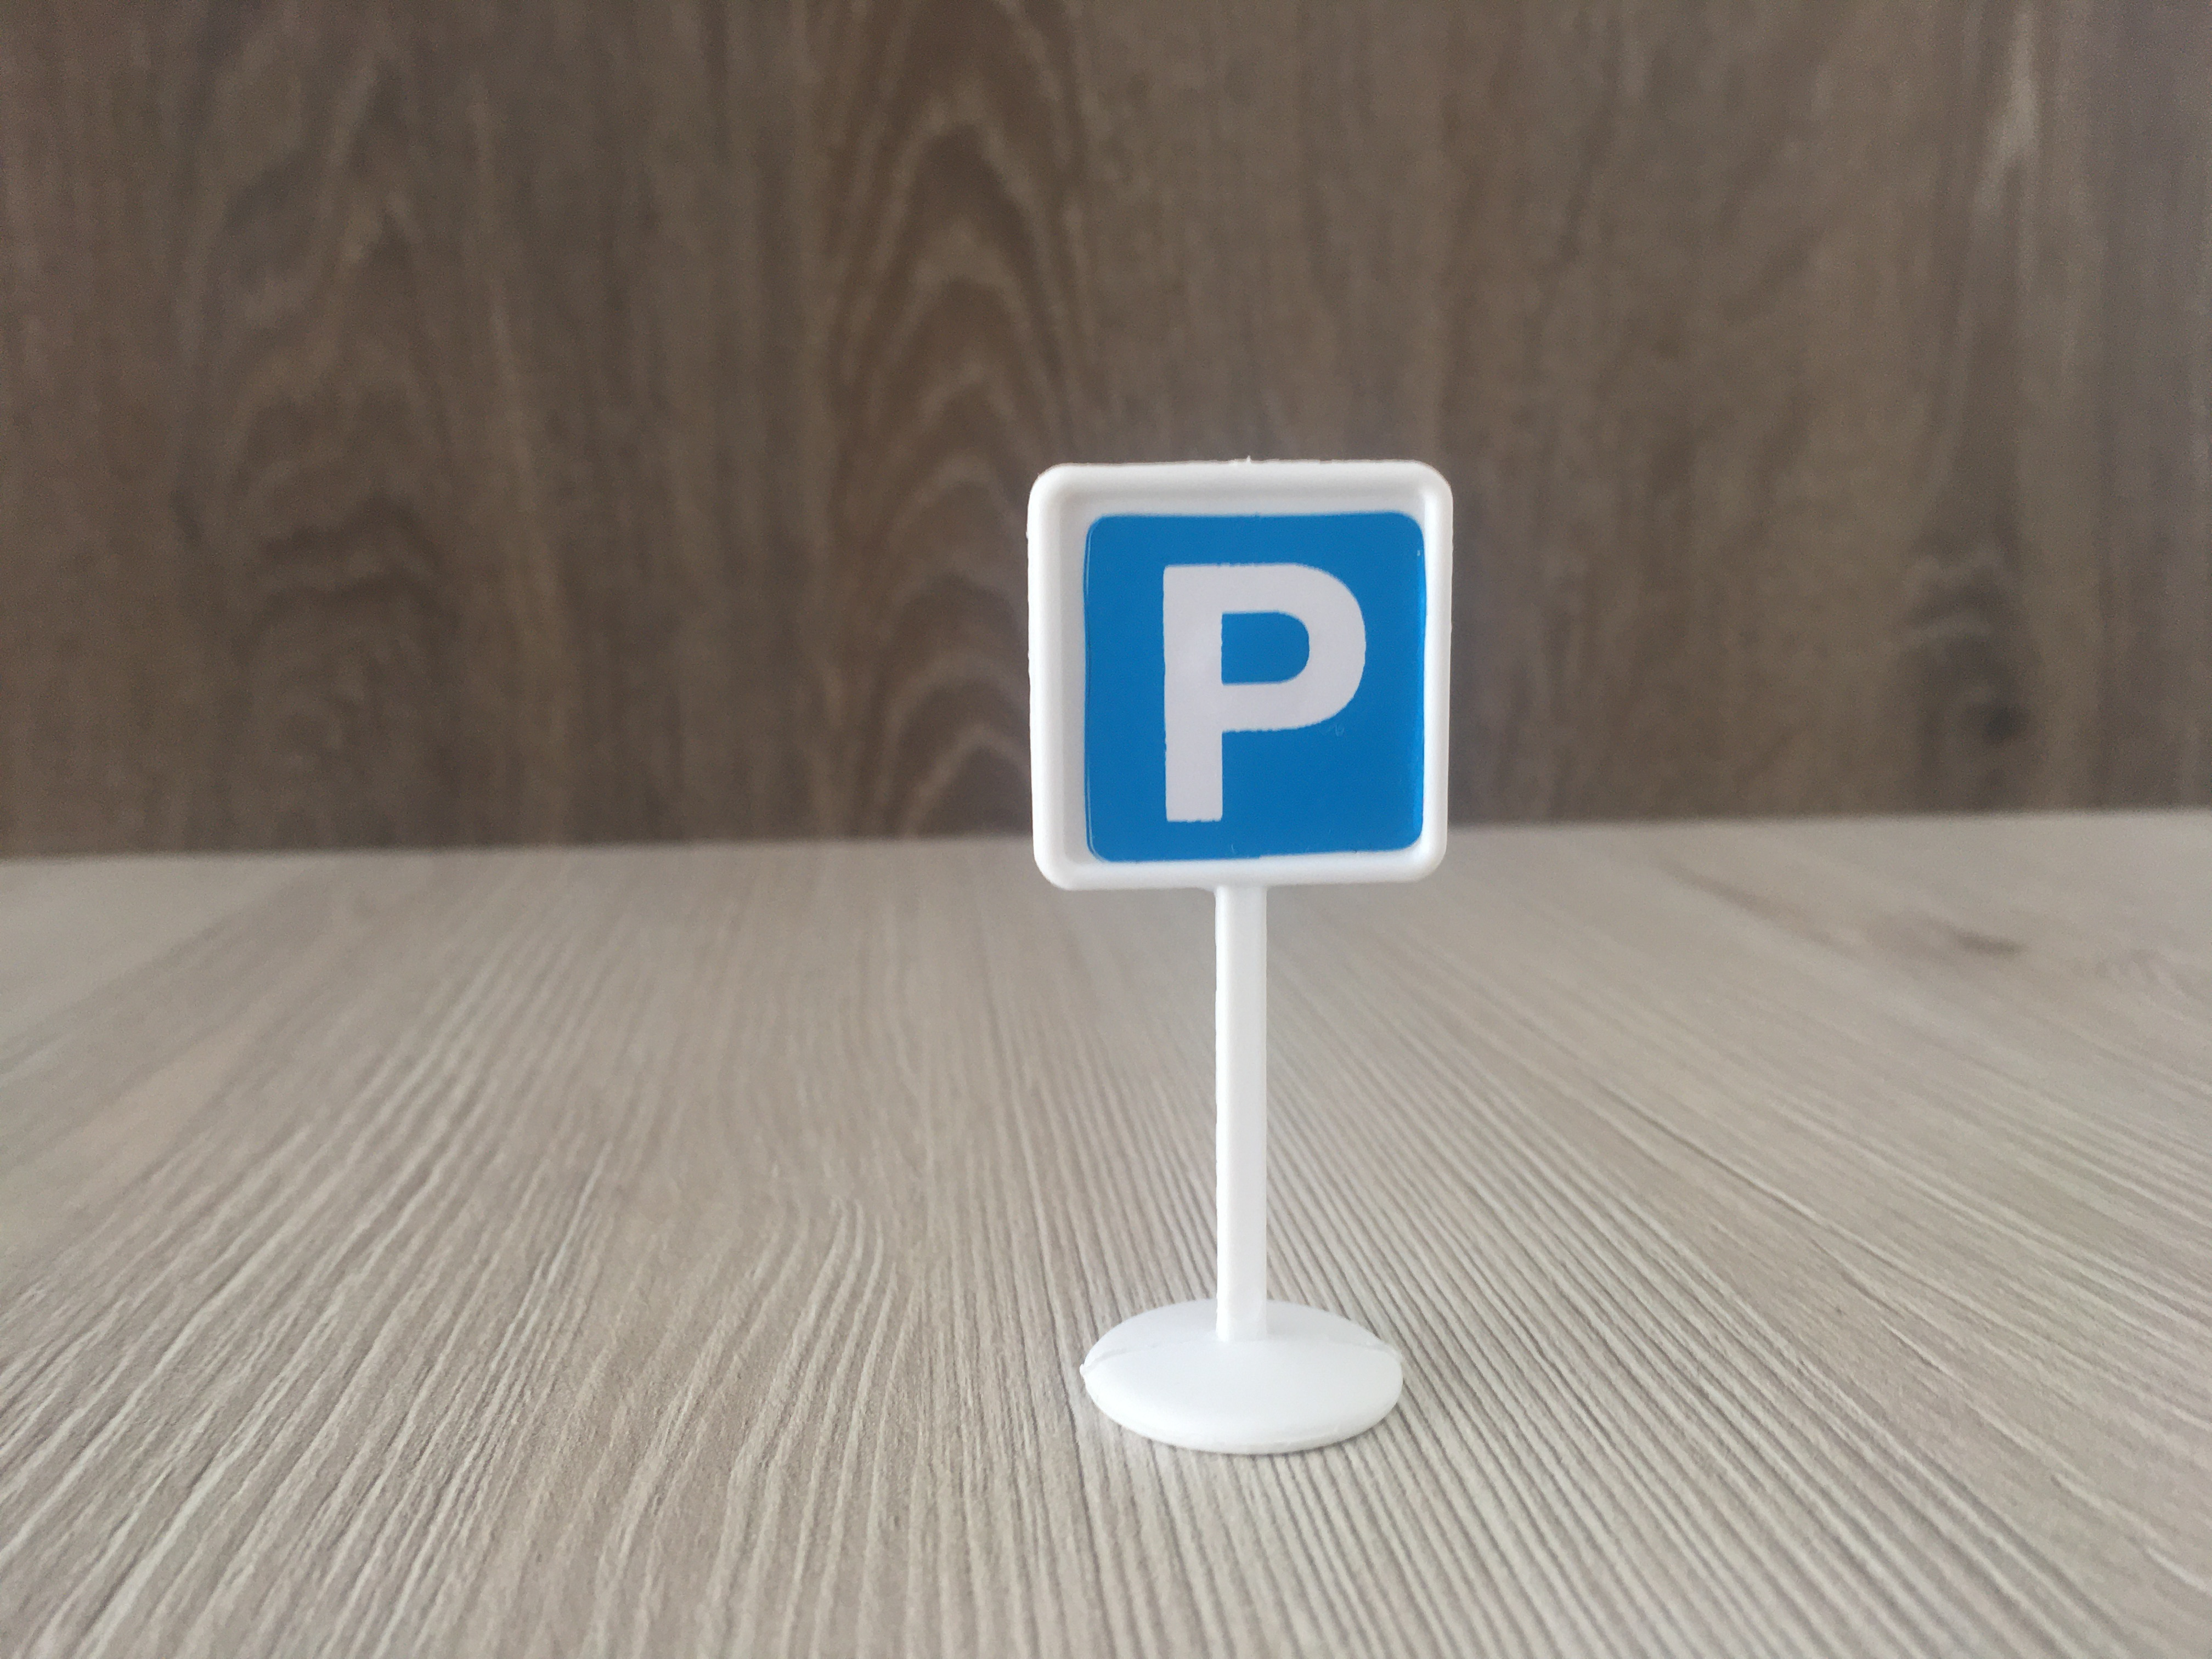parking: (1019, 462, 1467, 897)
